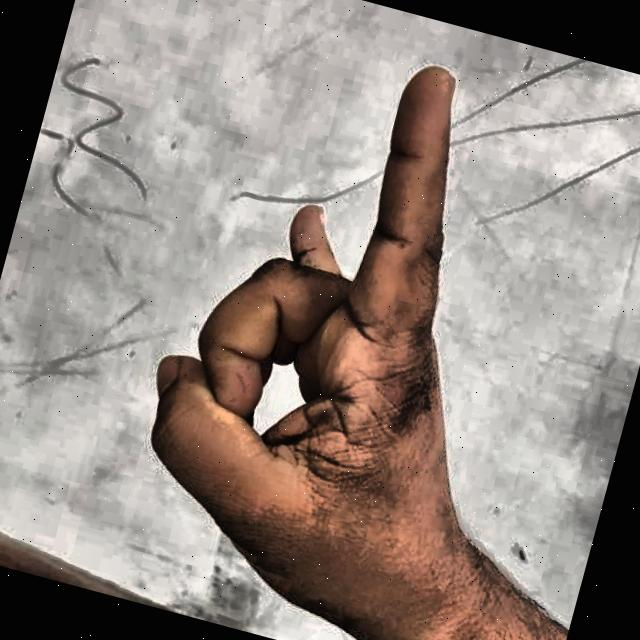Cha: (70, 0, 588, 640)
